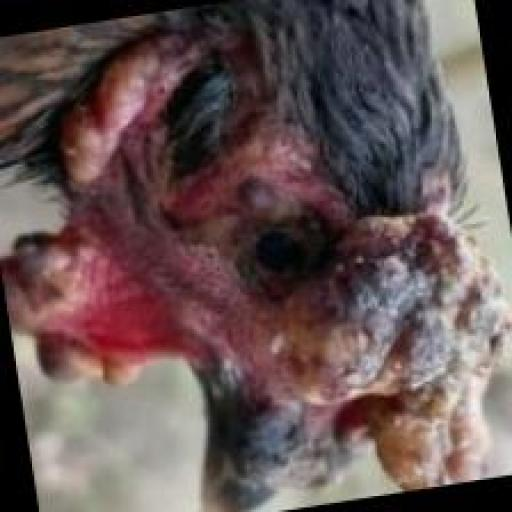disease: (3, 15, 281, 510)
